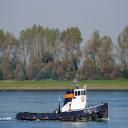tugboat: (16, 82, 110, 124)
